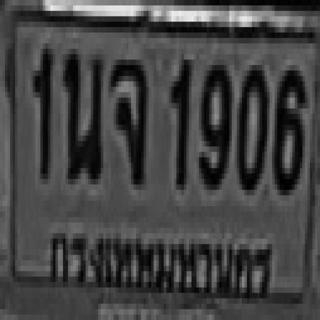A08: (110, 54, 145, 179)
A25: (63, 49, 101, 179)
N00: (236, 60, 266, 190)
N01: (30, 43, 50, 174), (169, 57, 189, 182)
N06: (272, 65, 302, 190)
N09: (197, 60, 229, 184)
